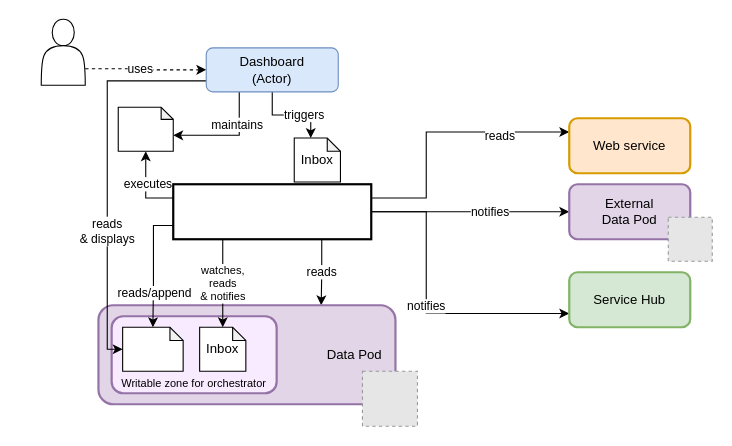
Image size: 732x446. Some labels were removed from this diagram. Grey dashed boxes stand in for pictures. The shapes that lost their labels are listed below. From the top down, each one's centre as x and y in pixels, then its label:
point 62,51: Maintainer (Human Agent)
point 145,128: Business Rules
point 272,211: Orchestrator (Autonomous Agent)
point 152,348: Event log
